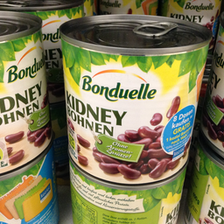beans: (58, 16, 209, 184), (1, 9, 48, 174)
